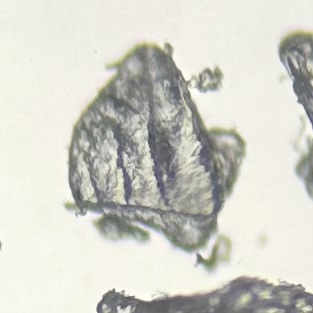microplastic: (60, 39, 249, 254), (96, 275, 313, 313), (273, 29, 313, 132), (90, 215, 155, 245), (192, 233, 237, 276), (293, 117, 313, 201), (190, 62, 226, 95)
